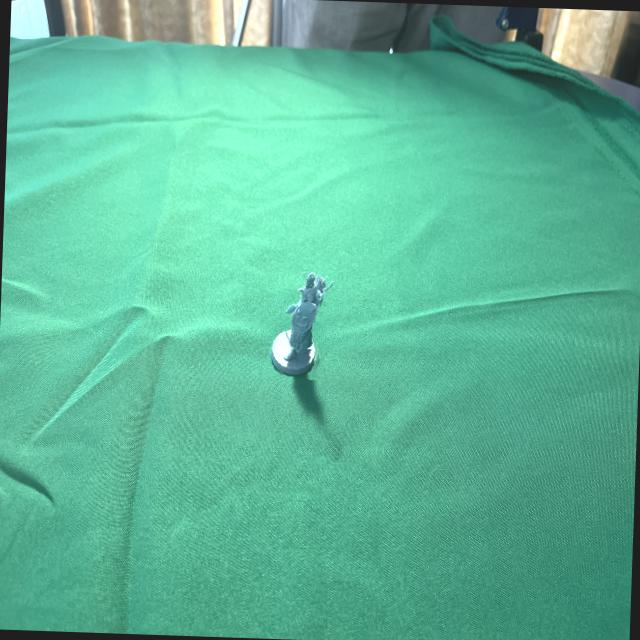isis_follower: (268, 269, 330, 379)
